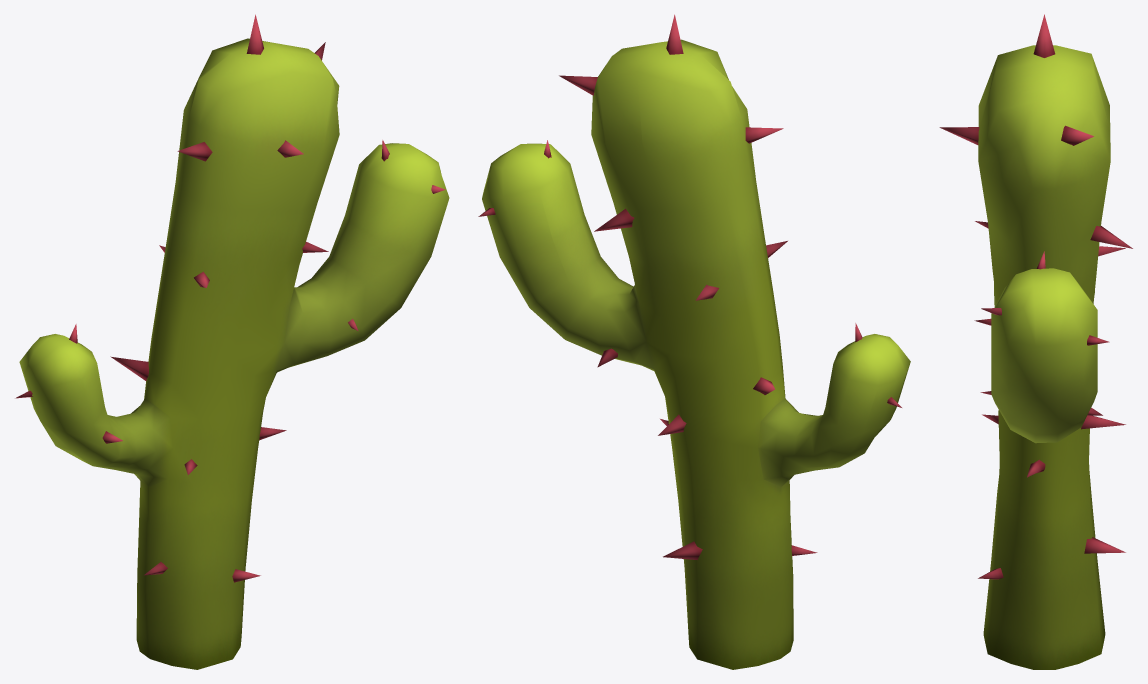
File: 22-08-25_cactus_001.fbx
3 renders of one model, left to right at view 1: azimuth 30°, elevation 25°; view 2: azimuth 150°, elevation 25°; view 3: azimuth 270°, elevation 25°, orthographic. The views are drawn at different scales.
Visible parts, largest first — view 1: cactus_001; view 2: cactus_001; view 3: cactus_001.
Boxes of the visible parts, left/top/right/bottom form: cactus_001: left=15, top=14, right=449, bottom=669; cactus_001: left=478, top=14, right=910, bottom=669; cactus_001: left=939, top=14, right=1132, bottom=669.
Bounding box in the file's own units: 1.23 × 1.72 × 0.4544.
Materials: 1 (1 with a texture image).
